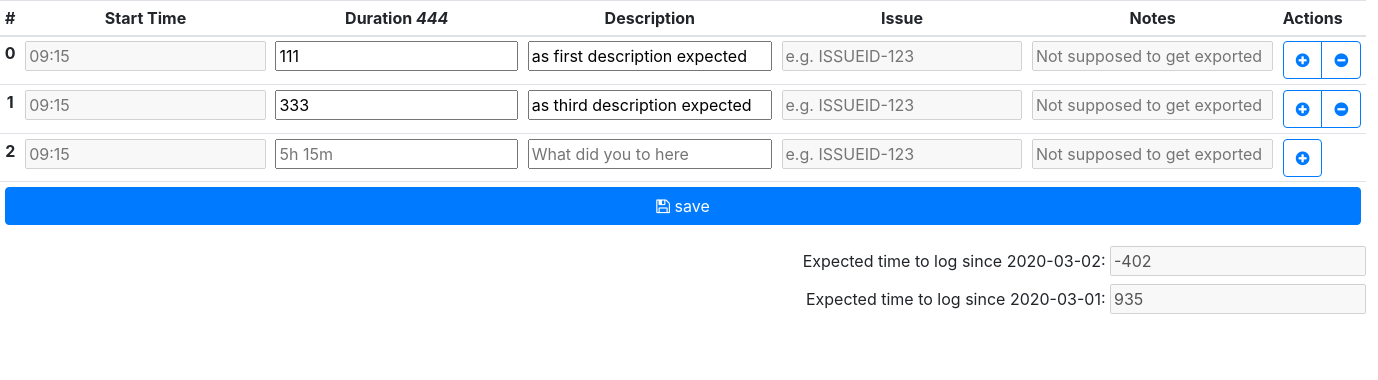
Test case: TimelogDayView › Add element › should add an element before the clicked add button row
Check: the column heading titled "TimeLog 0" is shown, box [0,36,20,85]
Click the 2nd button titled "add before this entry".
click(1303, 109)  # box [1283,90,1322,128]
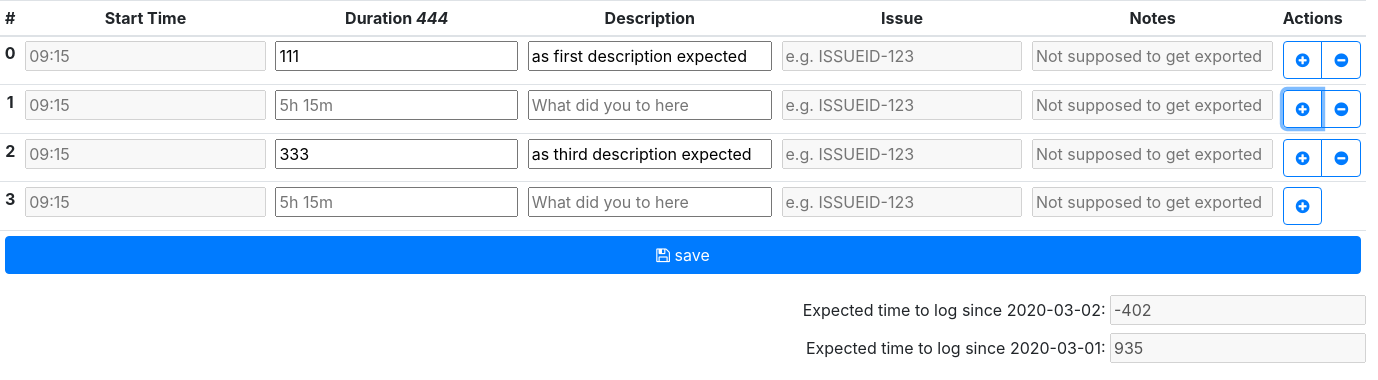
Check: the 1st field titled "description" is empty, box [528,90,772,120]
Check: the 1st field titled "duration" is empty, box [275,90,518,120]
Check: the 2nd field titled "description" holds "as third description expected", box [528,139,772,169]
